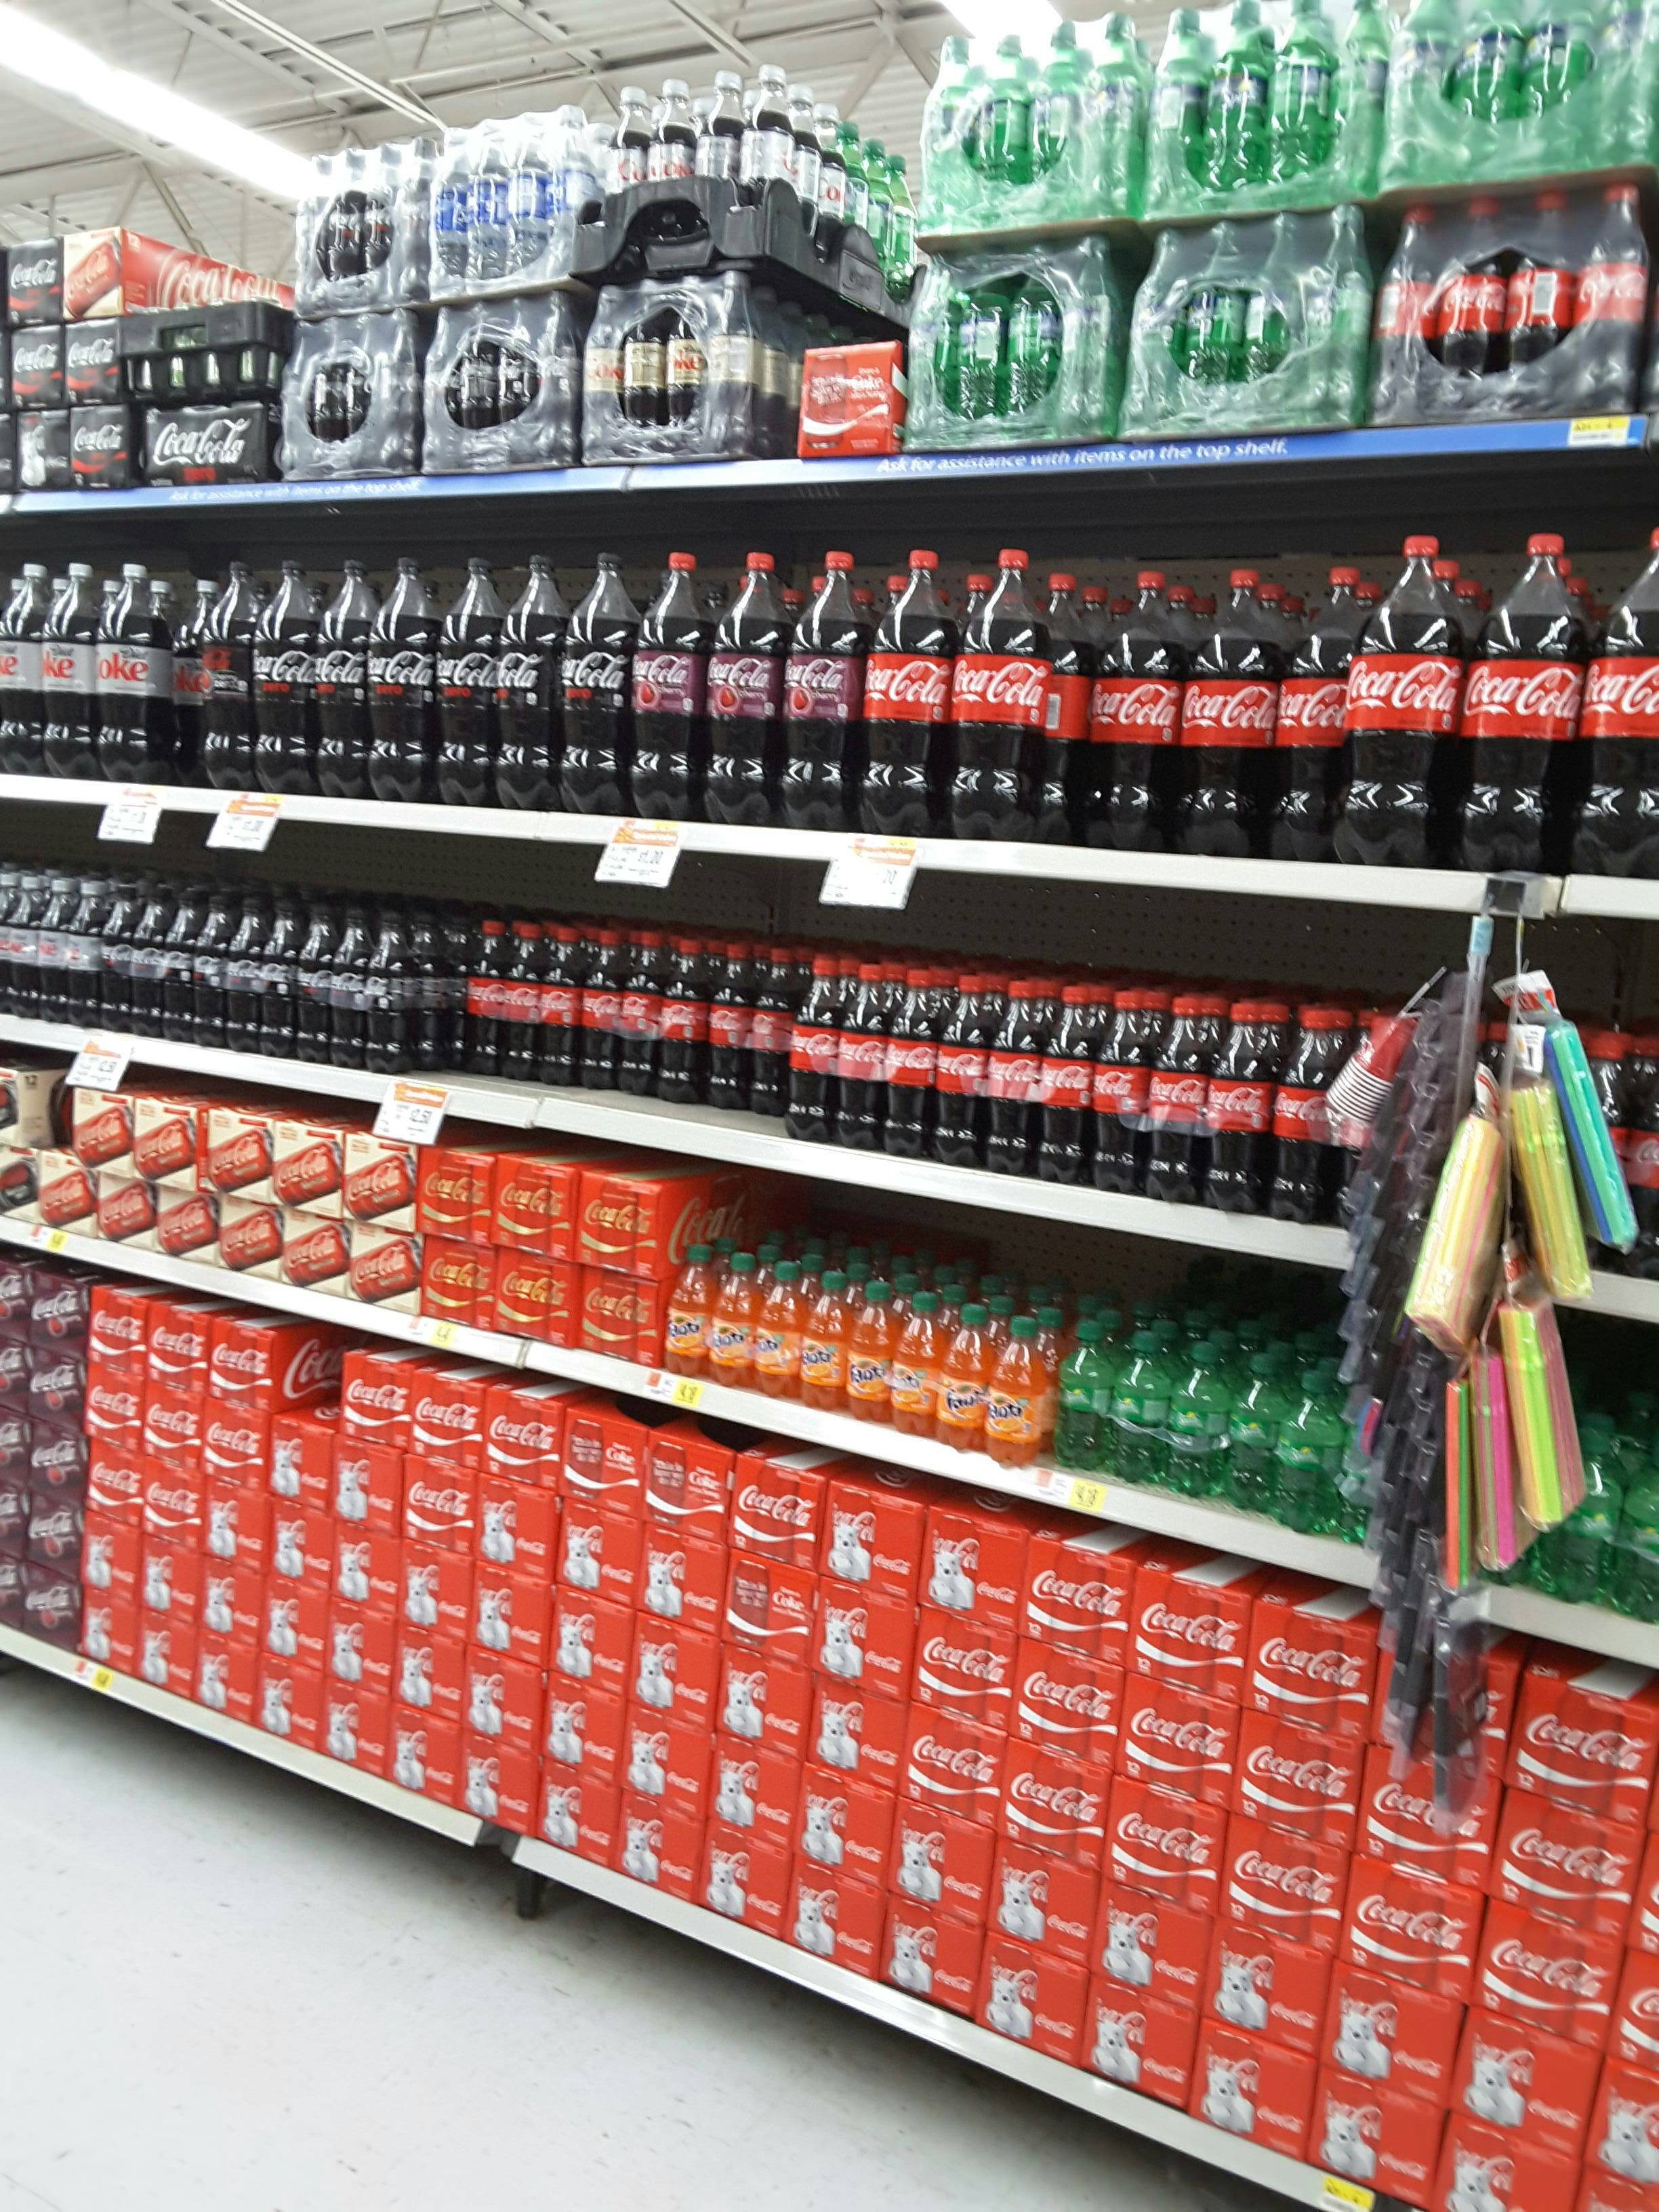Misplacement: (1030, 563, 1370, 867), (396, 900, 789, 1150), (263, 1332, 345, 1784)
